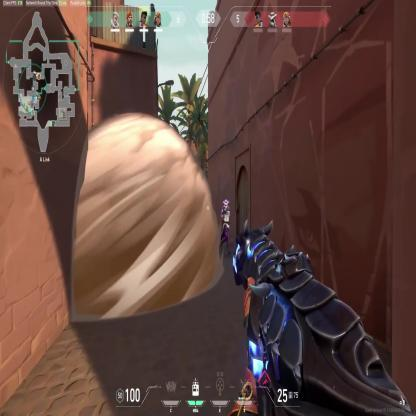enemy: (217, 196, 231, 259)
enemy_head: (222, 200, 230, 211)
